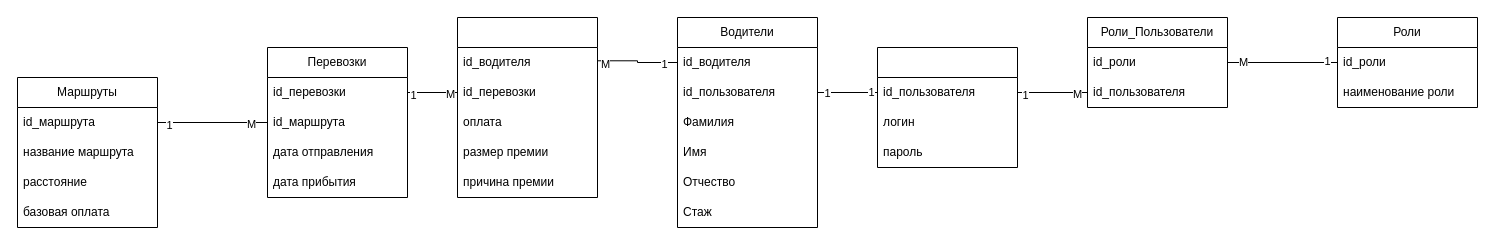
This 1495x245 diagram has some shape labels left out. Each missing label, with the box of its shape:
Водители_Перевозки: (456, 16, 598, 198)
Пользователи: (876, 46, 1018, 168)
